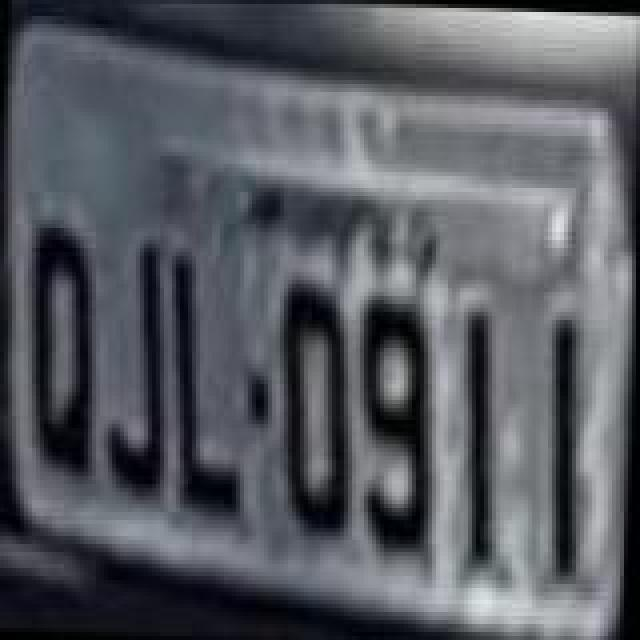1: (538, 316, 594, 588), (456, 308, 508, 568)
9: (350, 296, 442, 556)
J: (102, 236, 178, 500)
L: (160, 254, 256, 526)
O: (272, 282, 360, 538)
Q: (18, 224, 102, 480)
